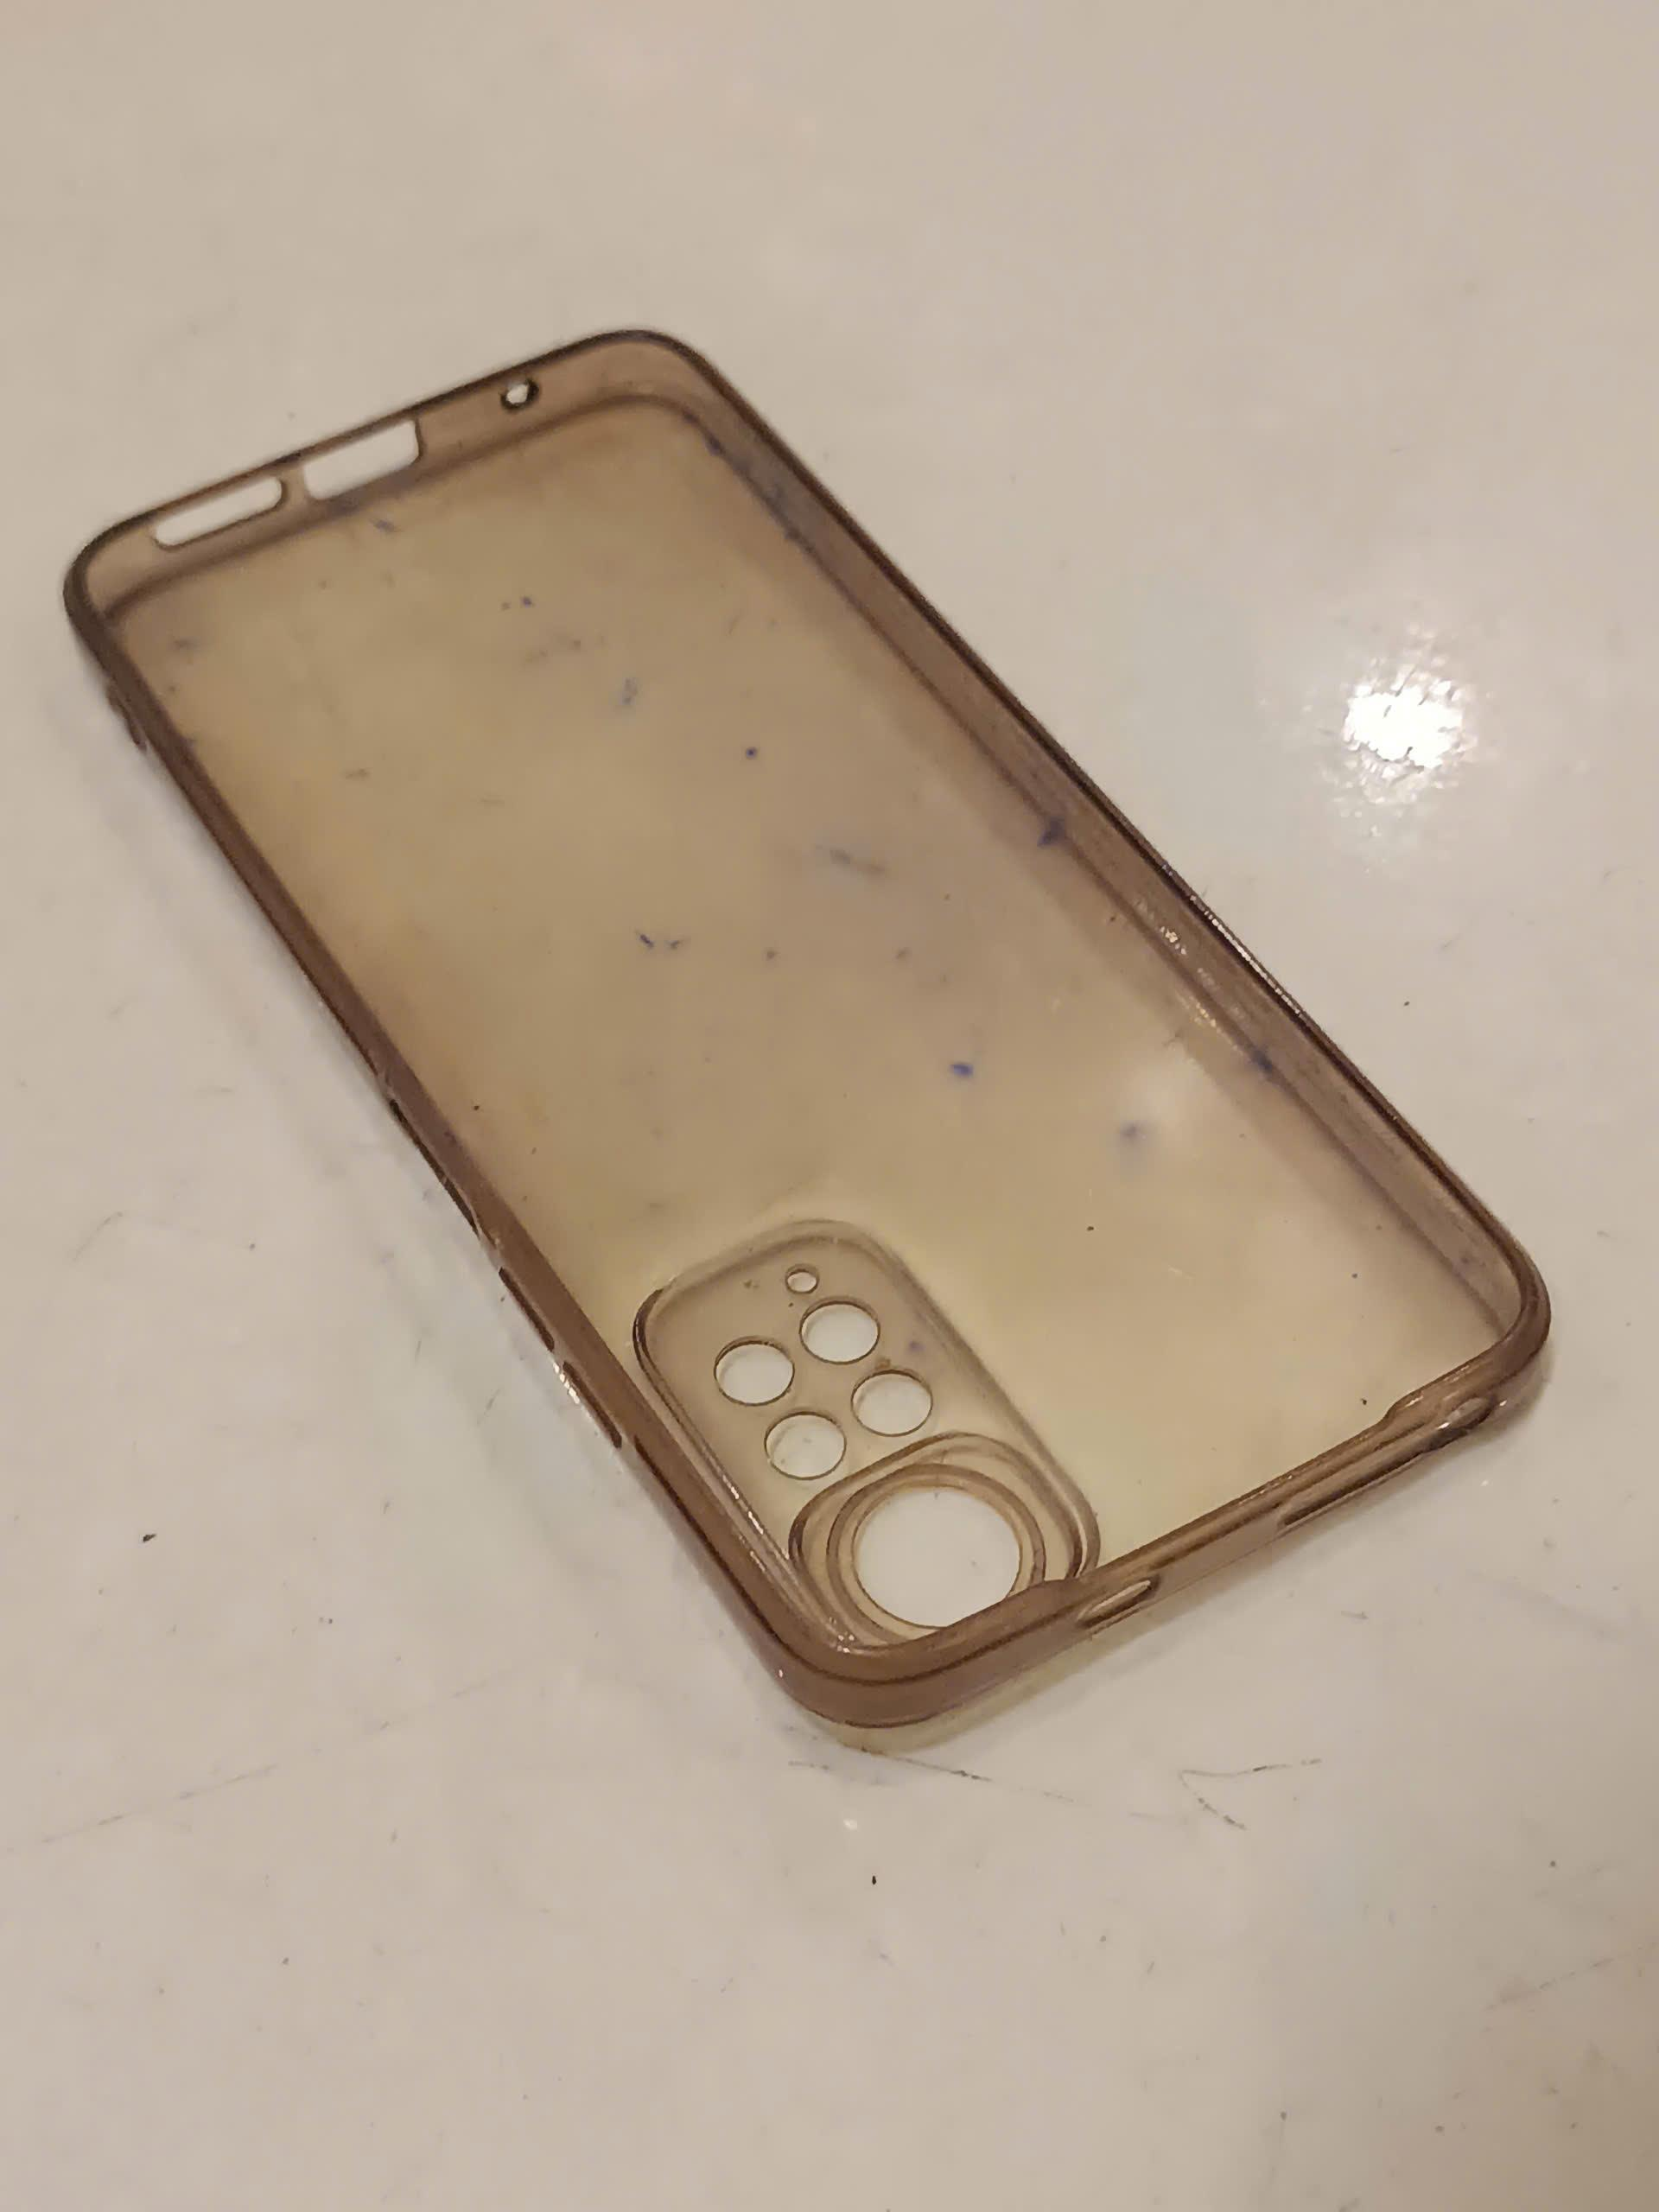Vo co: (56, 320, 1561, 1726)
